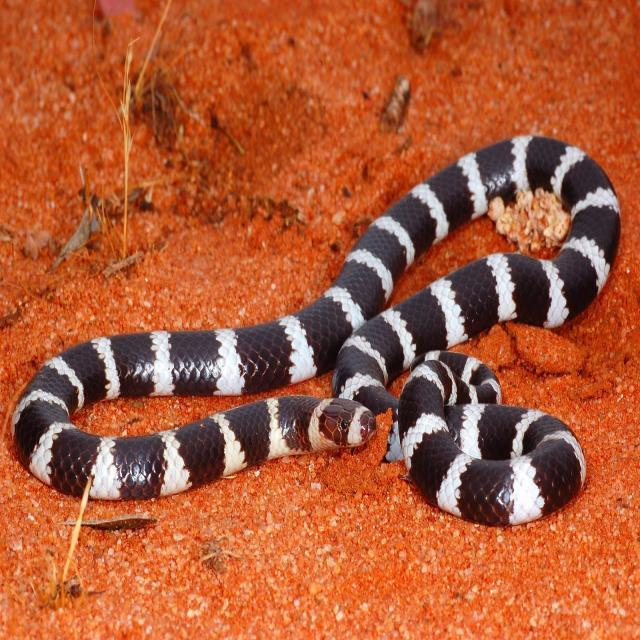Snake: (0, 92, 640, 540)
